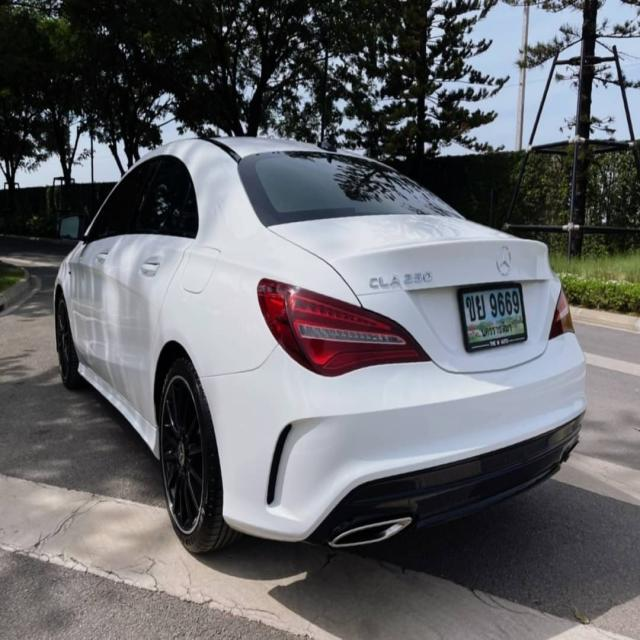license_plate: (457, 282, 528, 352)
